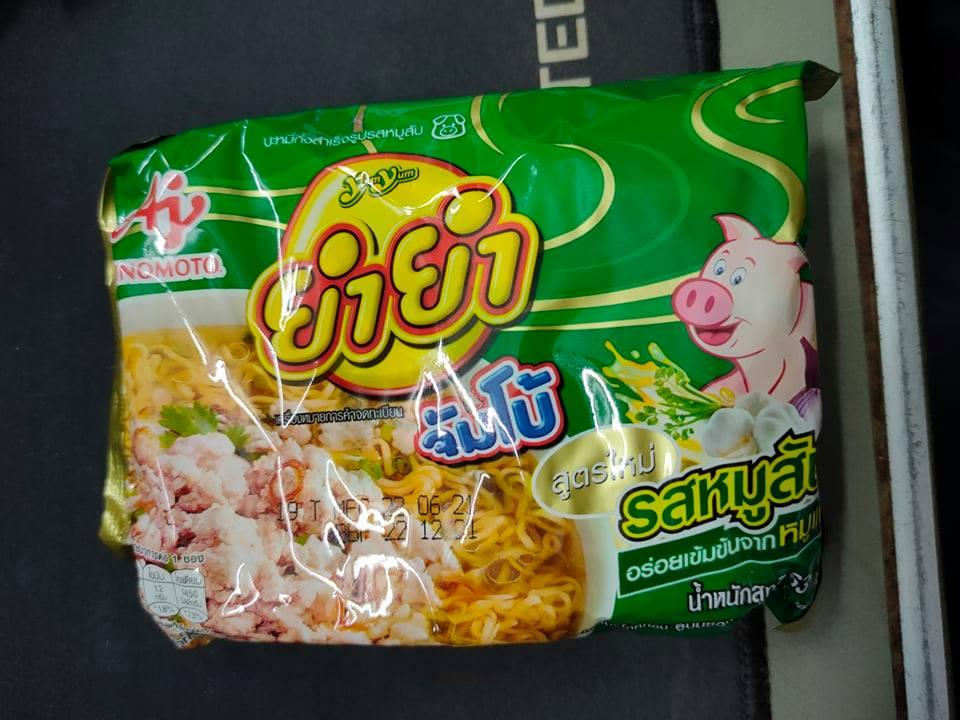plastic: (71, 55, 867, 675)
